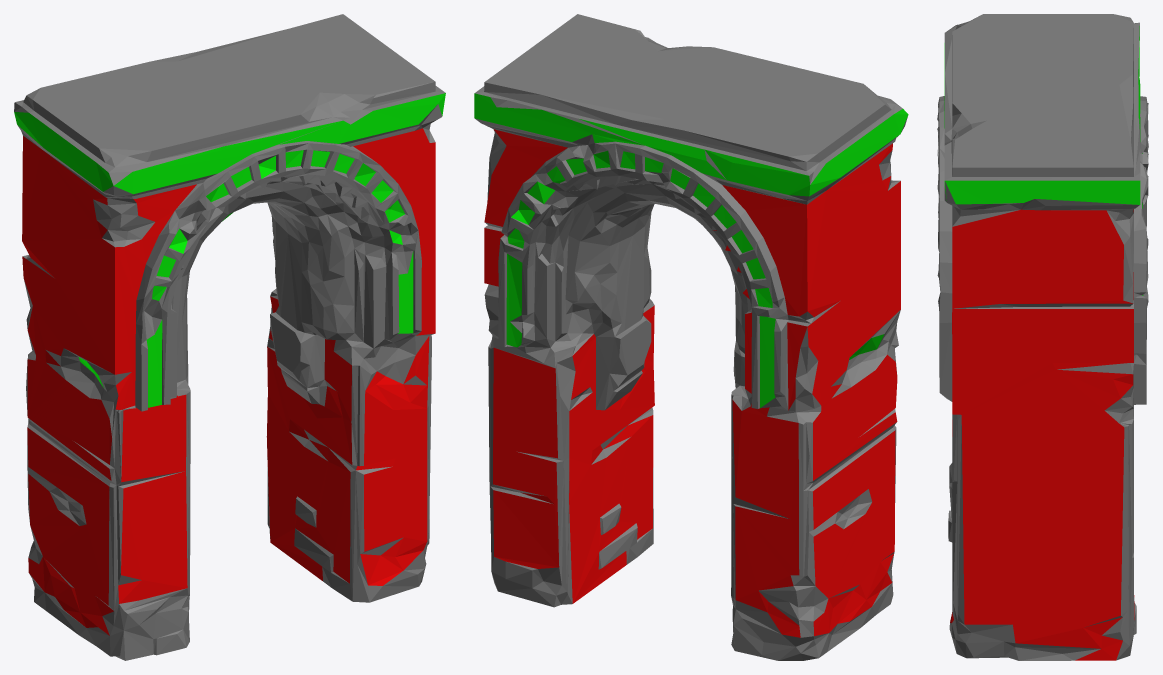
Rendered from Arch02.fbx.
3 views of the same model, side by side, from view 1: azimuth 30°, elevation 25°; view 2: azimuth 150°, elevation 25°; view 3: azimuth 270°, elevation 25° (orthographic). The views are drawn at different scales.
Parts seen in each view (by area): view 1: Arch02; view 2: Arch02; view 3: Arch02.
Boxes of the visible parts, <box> form: Arch02: <box>14,14,445,660</box>; Arch02: <box>474,14,908,660</box>; Arch02: <box>937,14,1148,660</box>.
Size of the model in its own units: 1038 by 1500 by 583.
